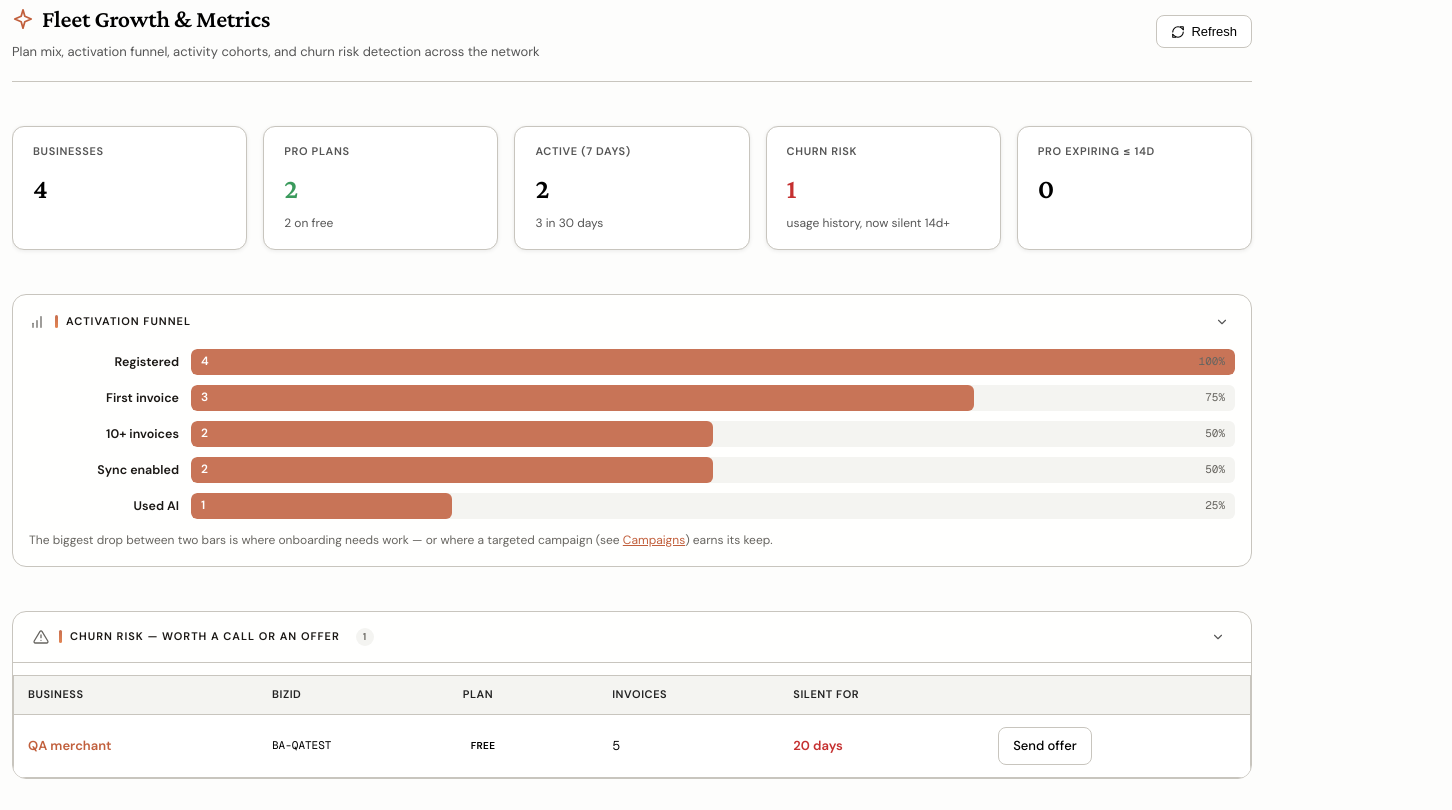
Admin metrics load state › retains known data with a stale-data notice after a failed refresh and recovers on retry
The image size is (1452, 810).
Expected: the link "QA merchant" is shown, [28, 736, 112, 754]
Step 1. Click the button "Refresh" → click(1204, 32), box [1156, 15, 1252, 48]
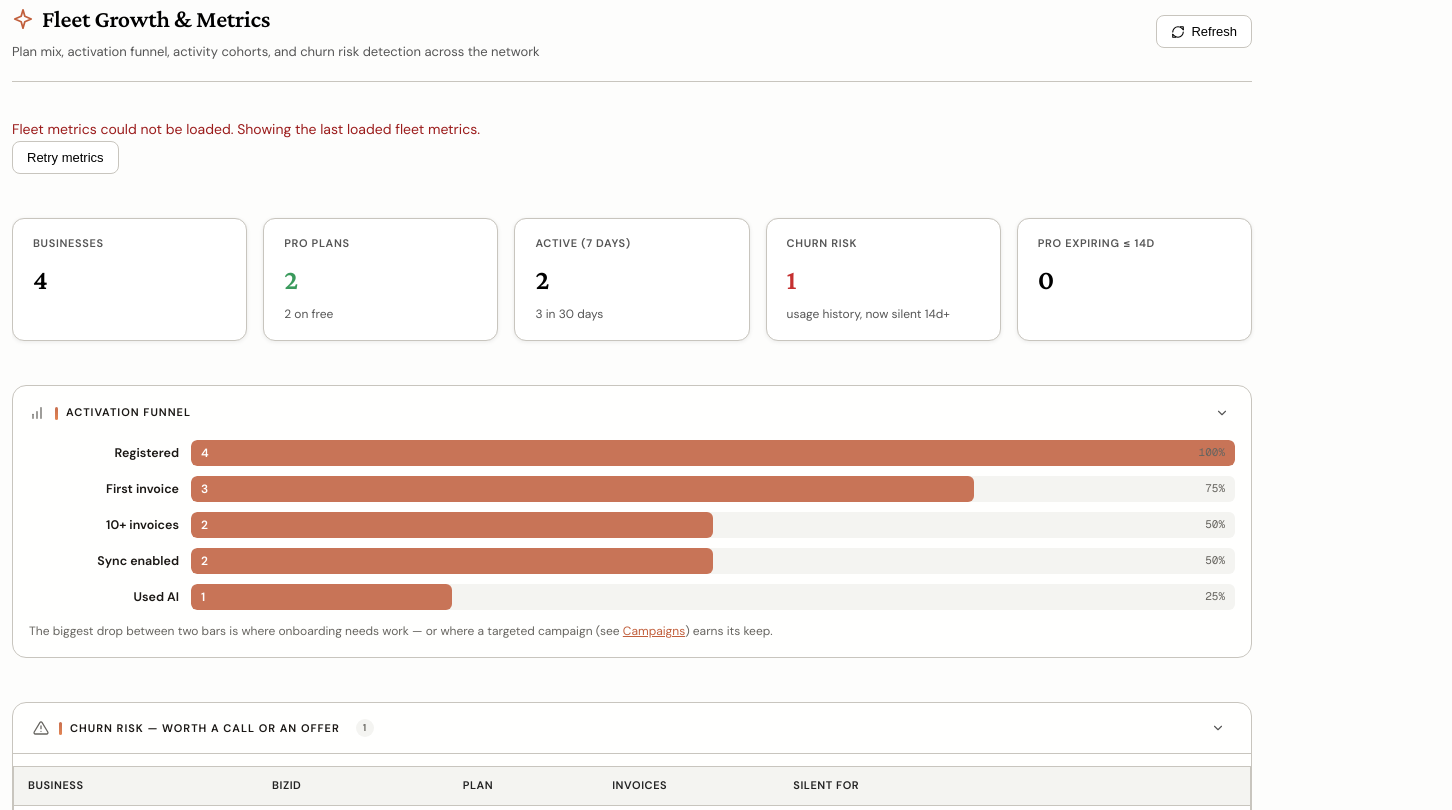
Result: the message shows "Showing the last loaded" at [234, 120, 480, 138]
Step 2. Click the button "Retry metrics" → click(65, 157), box [12, 141, 119, 174]
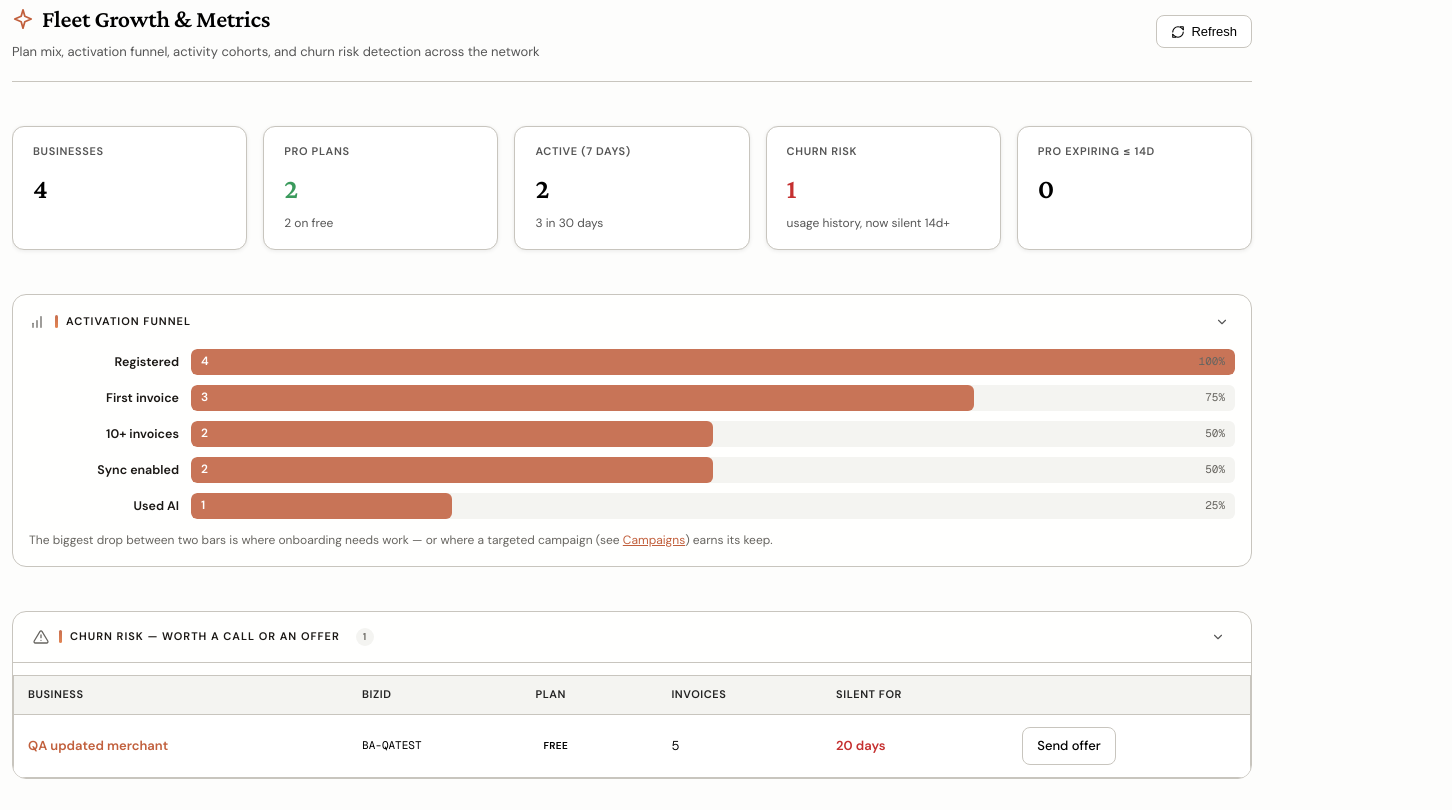
Result: the link "QA updated merchant" is shown at [28, 736, 168, 754]
Result: the message "Fleet metrics could not be loaded. Showing the last loaded fleet metrics. Retry" is gone
